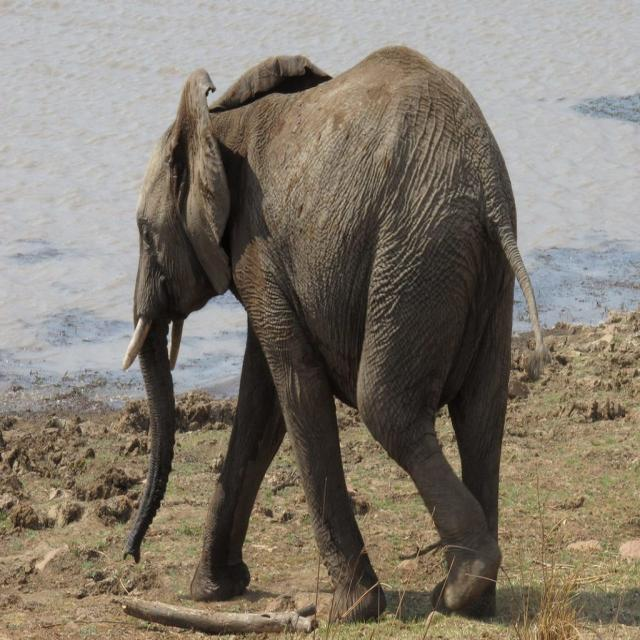elephant: (108, 50, 524, 627)
